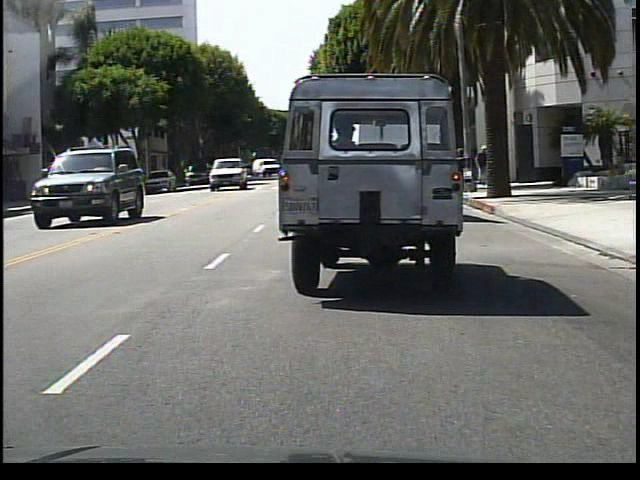person: (475, 144, 489, 184)
